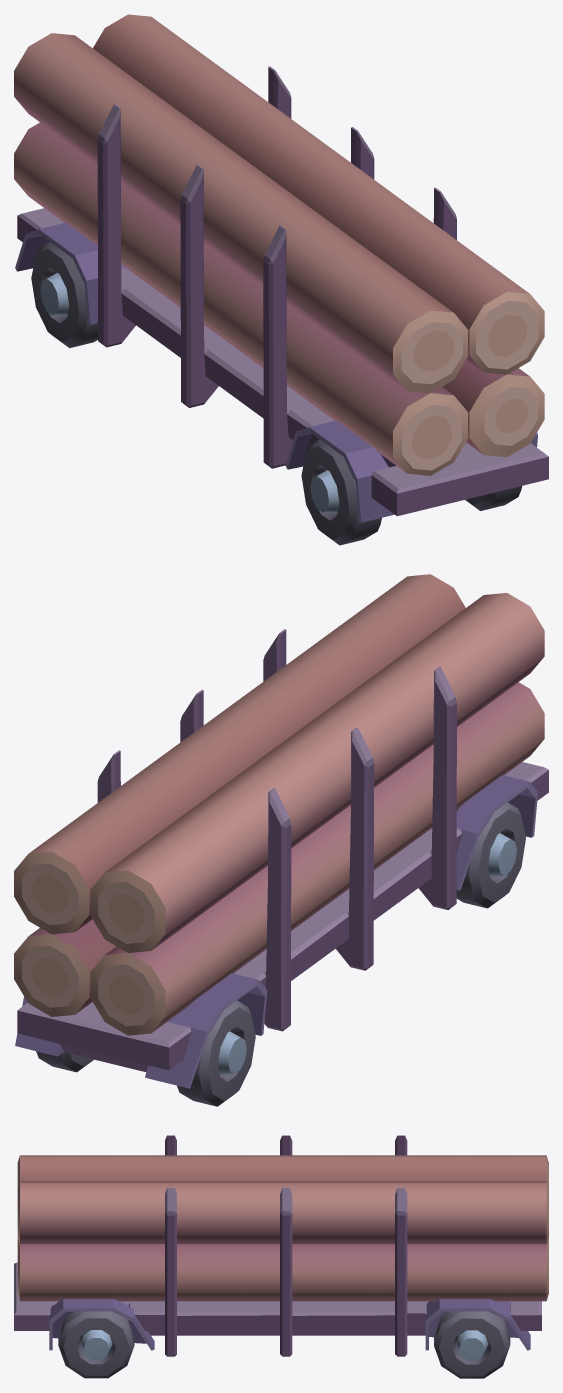
File: obstacle-lumber_trailer_LMH2.glb
3 renders of one model, top to bottom at view 1: azimuth 30°, elevation 25°; view 2: azimuth 150°, elevation 25°; view 3: azimuth 270°, elevation 25°, orthographic. The views are drawn at different scales.
Parts seen in each view (by area): view 1: obstacle-lumber_trailer_LMH2; view 2: obstacle-lumber_trailer_LMH2; view 3: obstacle-lumber_trailer_LMH2.
Part boxes in pixels (box(x1,y1,x2,y2)): obstacle-lumber_trailer_LMH2: box(14, 14, 548, 545); obstacle-lumber_trailer_LMH2: box(14, 574, 548, 1106); obstacle-lumber_trailer_LMH2: box(14, 1135, 548, 1378).
Bounding box in the file's own units: 3.25 × 4.48 × 11.48.
